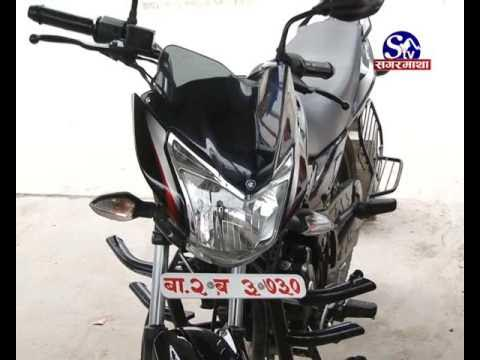number plate: (158, 265, 307, 306)
